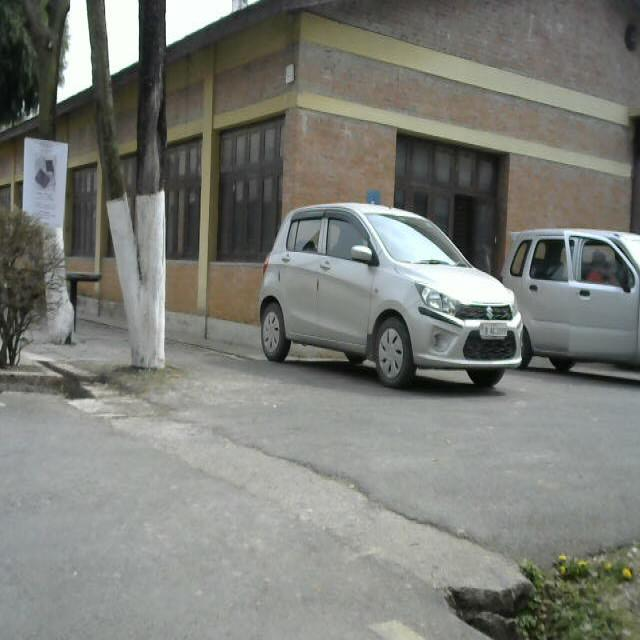Buildings: (210, 0, 640, 207)
Car: (258, 186, 543, 406), (507, 217, 640, 376)
Road: (4, 390, 293, 640)
trees: (90, 0, 205, 361), (0, 190, 64, 378)
